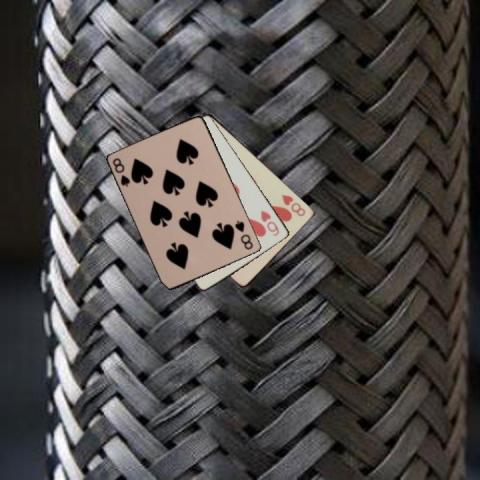6h: (258, 208, 281, 238)
8h: (280, 191, 308, 218)
8s: (232, 218, 255, 252), (109, 155, 132, 188)
